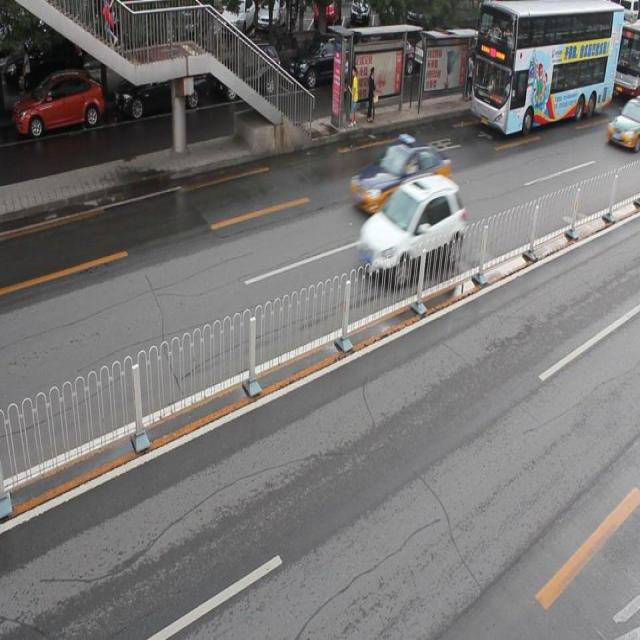car: (356, 172, 464, 283), (351, 134, 450, 214), (14, 72, 104, 140), (116, 55, 205, 118), (287, 36, 358, 90), (219, 42, 279, 103), (605, 98, 640, 149)
van: (471, 1, 621, 136)
